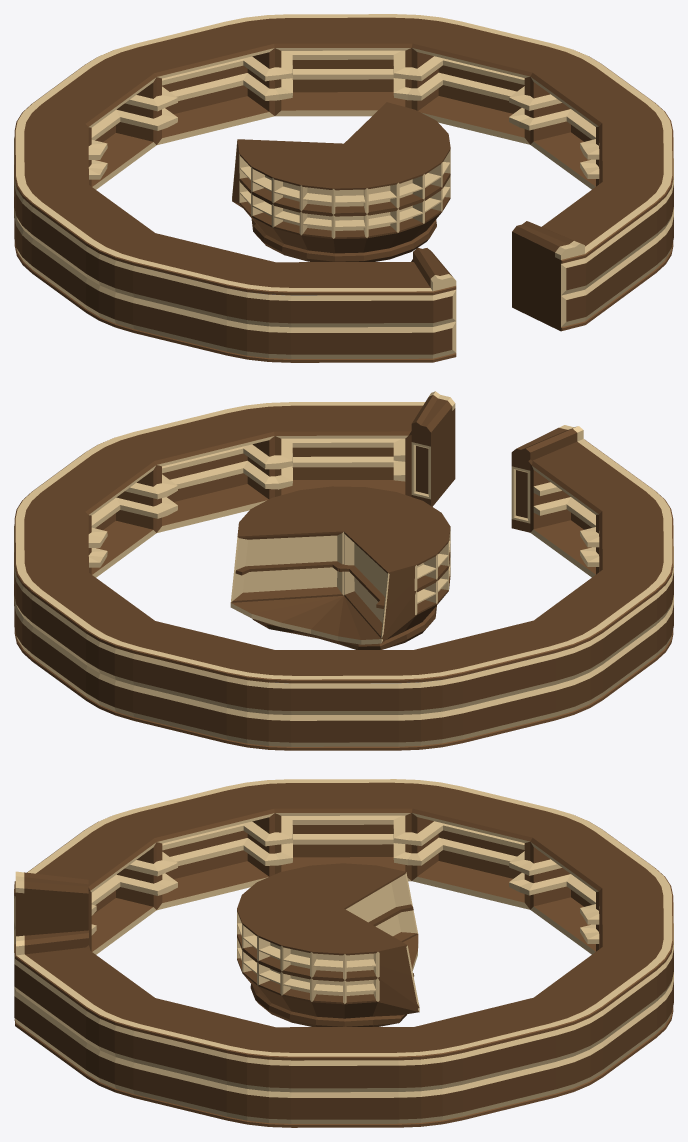
File: SM_Biblio.fbx
The picture shows the model from 3 angles, top to bottom: view 1: azimuth 30°, elevation 25°; view 2: azimuth 150°, elevation 25°; view 3: azimuth 270°, elevation 25°; orthographic projection.
Parts seen in each view (by area): view 1: SM_Biblio3; view 2: SM_Biblio3; view 3: SM_Biblio3.
Part boxes in pixels (x1,y1,x2,y2): SM_Biblio3: [14, 14, 673, 362]; SM_Biblio3: [14, 391, 673, 750]; SM_Biblio3: [14, 779, 673, 1127].
Size of the model in its own units: 13.01 by 1.92 by 13.01.
